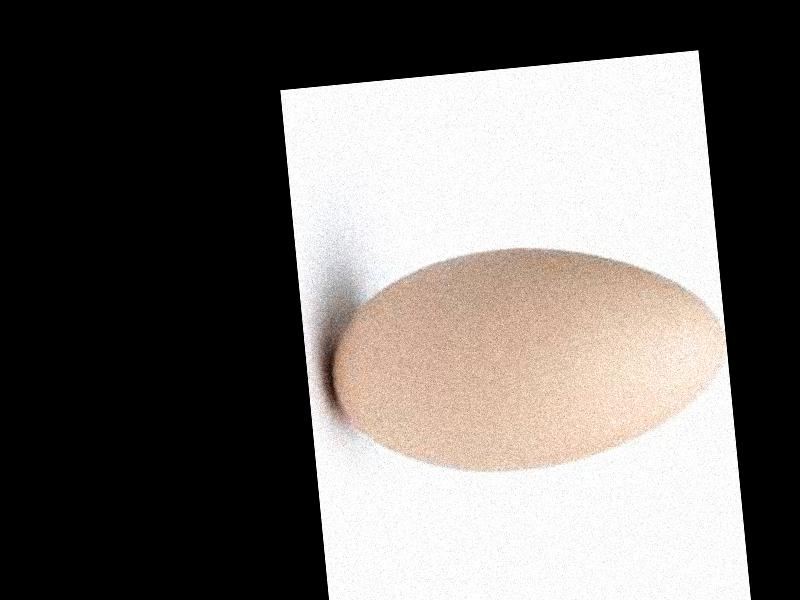Eggs: (317, 229, 733, 487)
